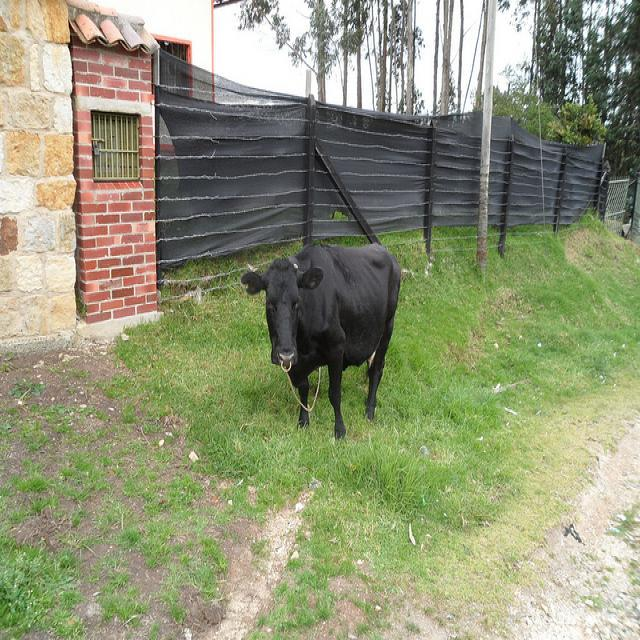cow: (240, 238, 400, 442)
